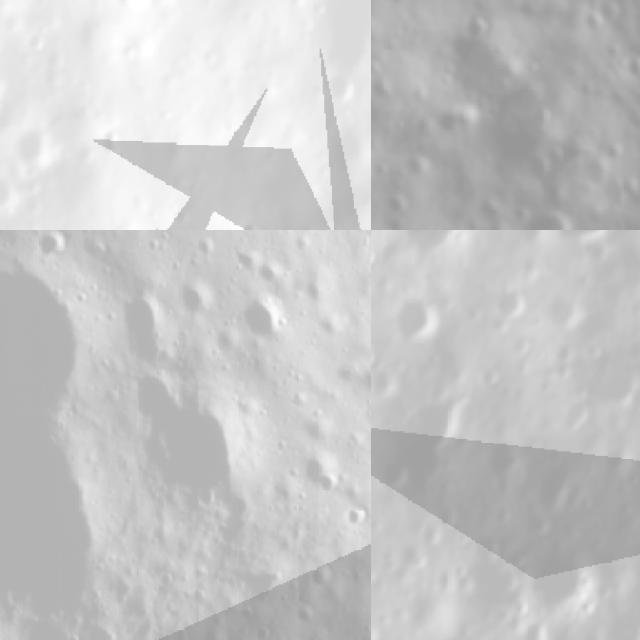crater: (524, 534, 596, 610), (393, 290, 439, 337), (549, 293, 586, 328), (187, 276, 218, 316), (258, 308, 296, 339), (494, 286, 533, 316), (328, 79, 364, 111), (378, 452, 407, 489), (520, 209, 571, 230), (39, 230, 74, 260), (591, 0, 625, 26), (467, 11, 495, 42), (371, 365, 396, 399), (312, 560, 336, 594), (298, 593, 320, 630), (232, 241, 258, 268), (233, 213, 270, 230), (346, 500, 371, 525), (266, 265, 297, 285), (257, 613, 274, 640), (621, 58, 640, 79)
